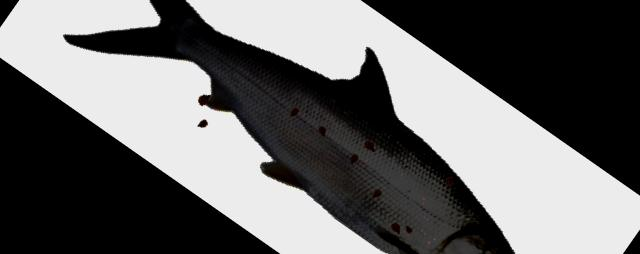Parasitic Disease: (64, 0, 513, 254)
